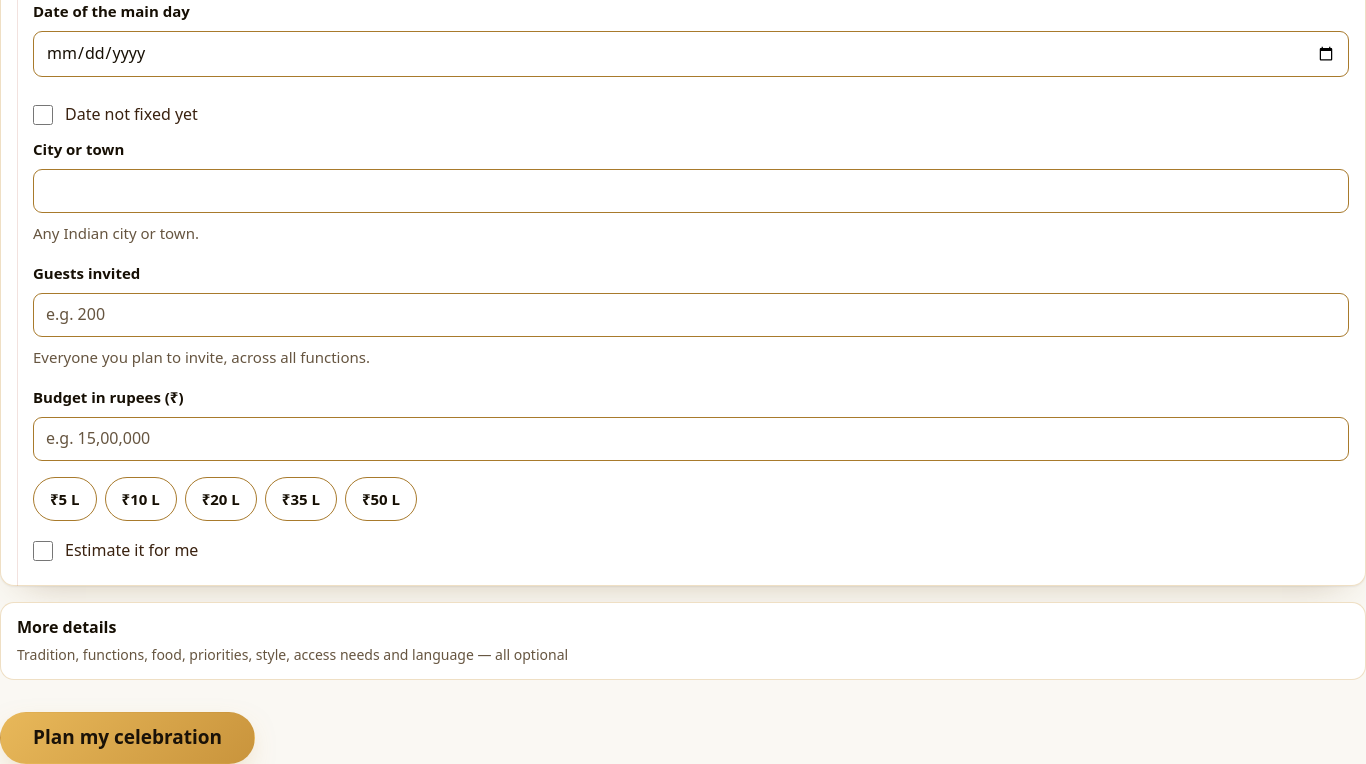
Test case: PlannerForm validation › shows every missing essential inline and focuses the first, without submitting
The width and height of the screenshot is (1366, 764).
(page scrolled)
Click the button "Plan my celebration" at coordinates (128, 738), box top-left (0, 712), bottom-right (255, 763)
(page scrolled)
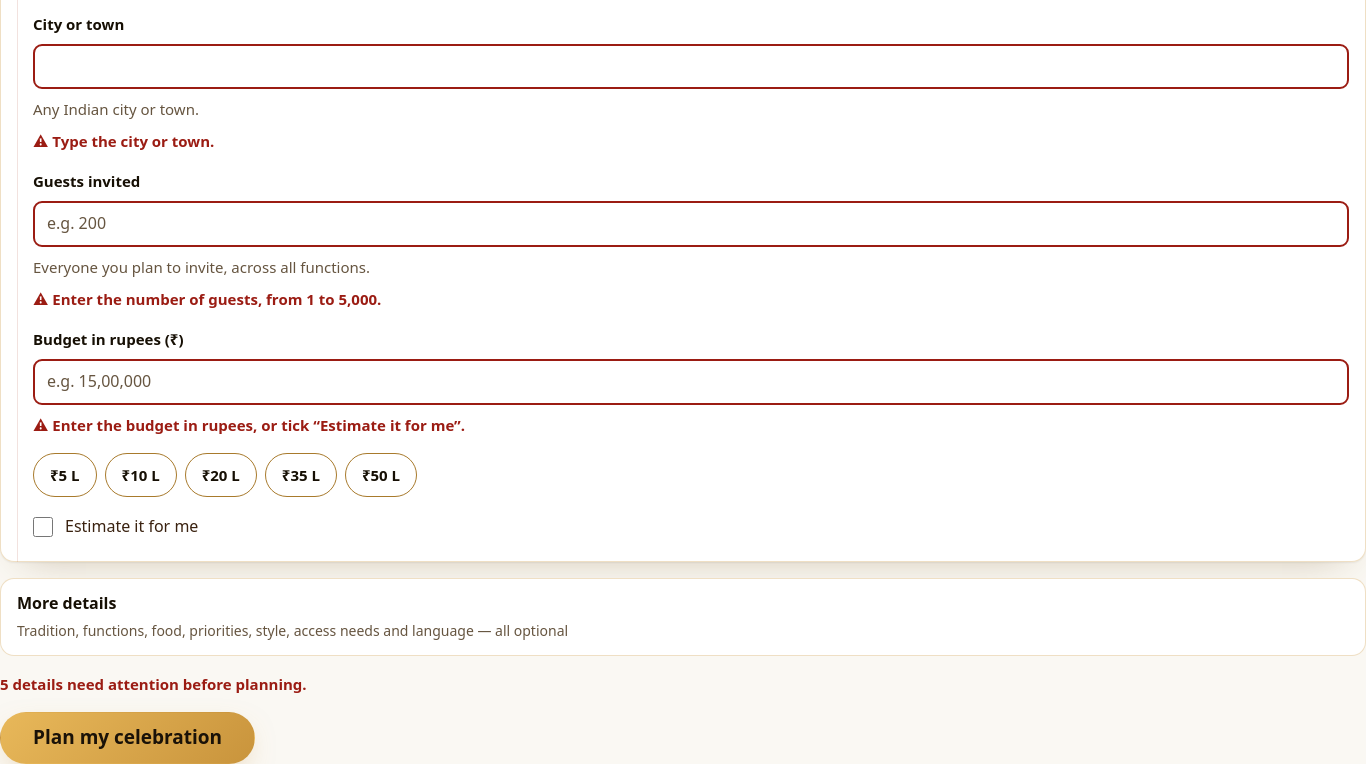
Now the text "Type the city or town." is shown, box top-left (52, 132), bottom-right (214, 152)
Now the text "Enter the budget in rupees, or tick “Estimate it for me”." is shown, box top-left (52, 415), bottom-right (465, 435)
Now the message shows "5 details need attention", box top-left (0, 674), bottom-right (307, 694)
